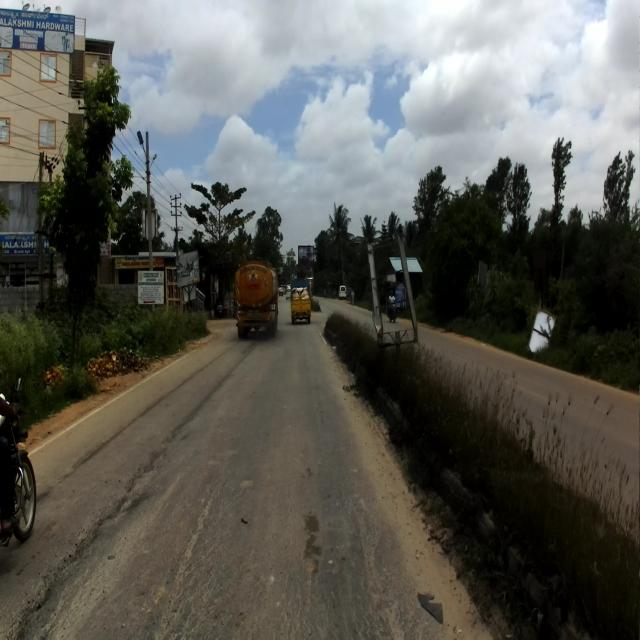truck: (232, 252, 279, 339)
